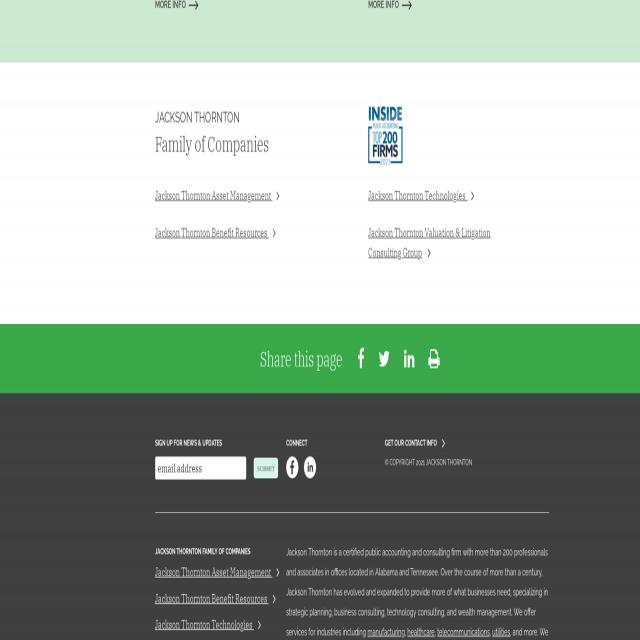button: (369, 106, 403, 166), (398, 343, 418, 373), (425, 344, 443, 375), (375, 343, 392, 373), (254, 457, 278, 478), (354, 341, 368, 375), (286, 457, 298, 478), (304, 457, 316, 478)
field: (155, 457, 246, 480)
